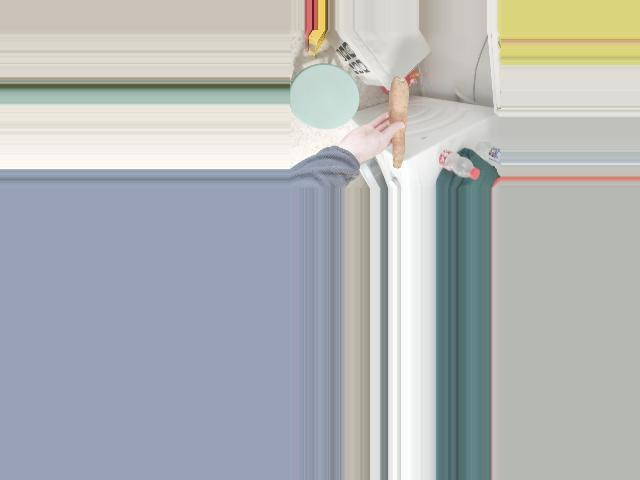sweet_potato: (381, 79, 410, 169)
